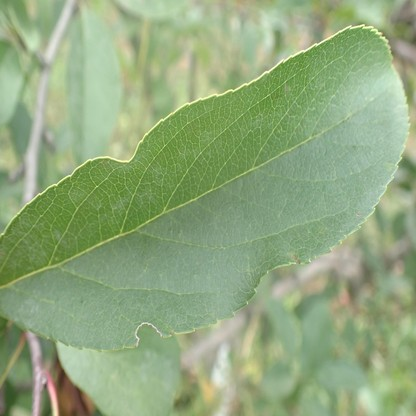powder: (4, 25, 407, 348)
